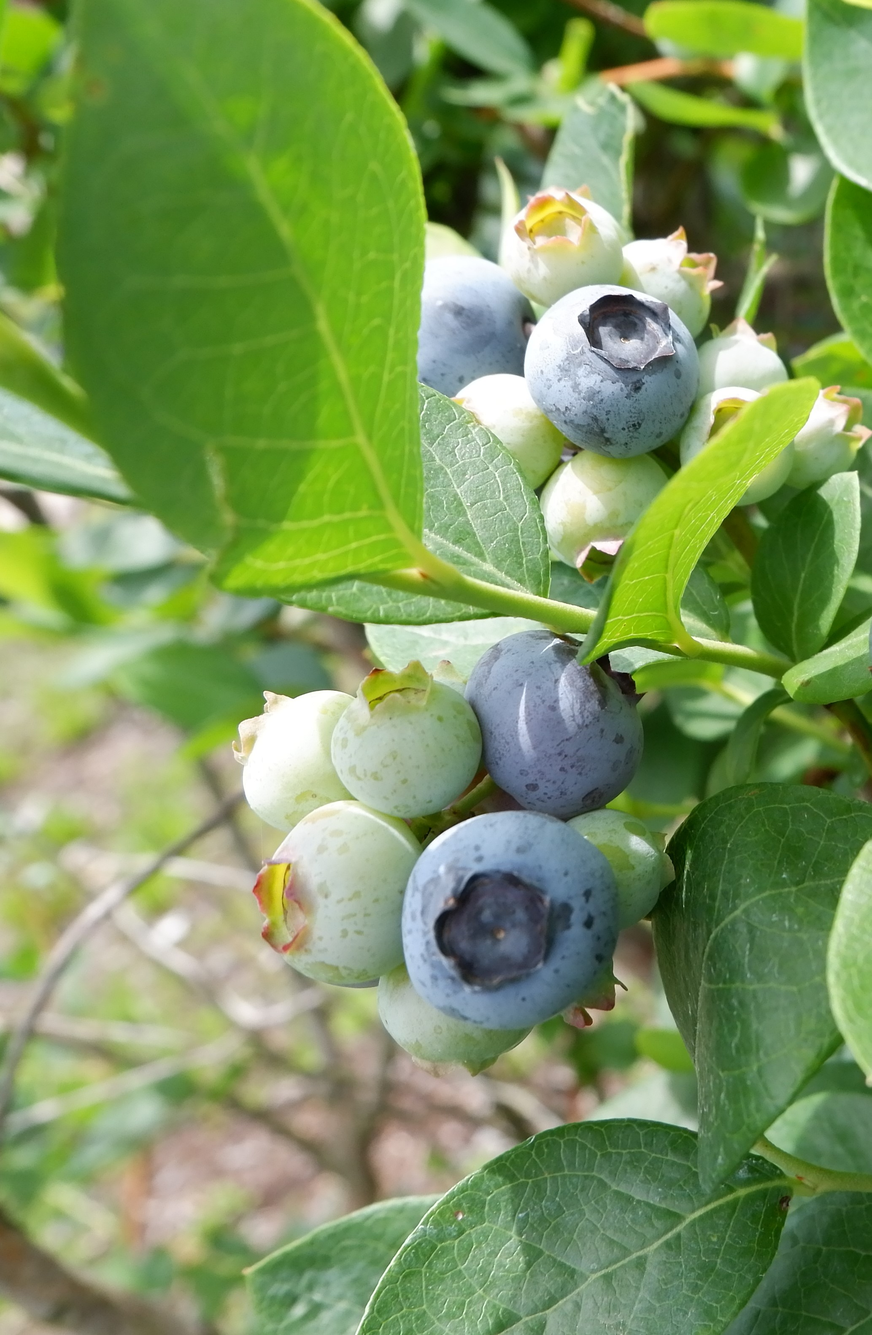Immature: (257, 802, 420, 984), (334, 659, 479, 817), (378, 962, 536, 1070), (540, 453, 666, 584), (241, 694, 350, 830), (680, 387, 798, 507), (505, 191, 621, 308), (454, 373, 561, 490), (568, 811, 675, 926), (620, 229, 715, 336), (786, 386, 870, 488), (694, 318, 788, 403), (561, 928, 630, 1027)
Mature: (403, 809, 613, 1031), (464, 633, 642, 816), (524, 286, 699, 454), (418, 259, 527, 398)
